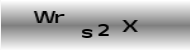2: (97, 23, 109, 36)
W: (33, 10, 55, 24)
X: (121, 19, 139, 33)
r: (53, 13, 66, 24)
s: (80, 28, 94, 39)
